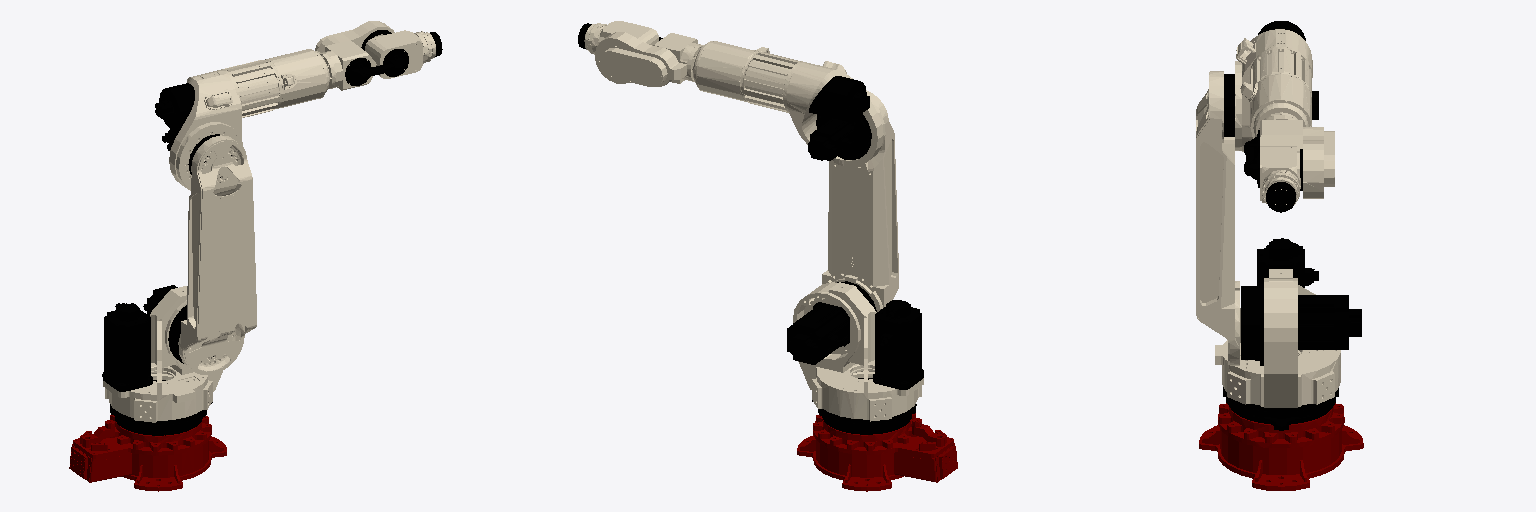
robot.urdf — SR80:
<?xml version="1.0"?>
<!-- created with Phobos 1.0.1 "Capricious Choutengan" -->
  <robot name="SR80">

    <link name="L1">
      <visual name="Link1_1">
        <origin xyz="0 0 0" rpy="0 0 0"/>
        <geometry>
          <mesh filename="package://sr80_description/meshes/dae/Link1_1.dae" scale="1.0 1.0 1.0"/>
        </geometry>
        <material name="black"/>
      </visual>
      <visual name="Link1_2">
        <origin xyz="0 0 0" rpy="0 0 0"/>
        <geometry>
          <mesh filename="package://sr80_description/meshes/dae/Link1_2.dae" scale="1.0 1.0 1.0"/>
        </geometry>
        <material name="white"/>
      </visual>
      <collision name="Link1_1">
        <origin xyz="0.04186 0.04316 -0.12385" rpy="0 0 0"/>
        <geometry>
          <box size="0.58774 0.52632 0.5948"/>
        </geometry>
      </collision>
      <collision name="Link1_2">
        <origin xyz="0.0465 -0.01253 -0.07119" rpy="0 0 0"/>
        <geometry>
          <box size="0.59701 0.47495 0.51213"/>
        </geometry>
      </collision>
    </link>

    <link name="L2">
      <visual name="Link2_1">
        <origin xyz="0 0 0" rpy="-1.5708 0 -1.5708"/>
        <geometry>
          <mesh filename="package://sr80_description/meshes/dae/Link2_1.dae" scale="1.0 1.0 1.0"/>
        </geometry>
        <material name="white"/>
      </visual>
      <visual name="Link2_2">
        <origin xyz="0 0 0" rpy="-1.5708 0 -1.5708"/>
        <geometry>
          <mesh filename="package://sr80_description/meshes/dae/Link2_2.dae" scale="1.0 1.0 1.0"/>
        </geometry>
        <material name="black"/>
      </visual>
      <collision name="Link2_1">
        <origin xyz="0.43725 0 0.23727" rpy="-1.5708 0 -1.5708"/>
        <geometry>
          <box size="0.32499 0.16505 1.1995"/>
        </geometry>
      </collision>
      <collision name="Link2_2">
        <origin xyz="0.905 0.00031 0.03705" rpy="-1.5708 0 -1.5708"/>
        <geometry>
          <box size="0.28739 0.3599 0.288"/>
        </geometry>
      </collision>
    </link>

    <link name="L3">
      <visual name="Link3_1">
        <origin xyz="0 0 0" rpy="-1.5708 0 -1.5708"/>
        <geometry>
          <mesh filename="package://sr80_description/meshes/dae/Link3_1.dae" scale="1.0 1.0 1.0"/>
        </geometry>
        <material name="white"/>
      </visual>
      <visual name="Link3_2">
        <origin xyz="0 0 0" rpy="-1.5708 0 -1.5708"/>
        <geometry>
          <mesh filename="package://sr80_description/meshes/dae/Link3_2.dae" scale="1.0 1.0 1.0"/>
        </geometry>
        <material name="black"/>
      </visual>
      <collision name="Link3_1">
        <origin xyz="0.07425 -0.24338 0.02774" rpy="-1.5708 0 -1.5708"/>
        <geometry>
          <box size="0.83872 0.29353 0.5005"/>
        </geometry>
      </collision>
      <collision name="Link3_2">
        <origin xyz="0.206 0.02281 0" rpy="-1.5708 0 -1.5708"/>
        <geometry>
          <box size="0.301 0.19 0.19"/>
        </geometry>
      </collision>
    </link>

    <link name="L4">
      <visual name="Link4_1">
        <origin xyz="0 0 0" rpy="3.14159 -1.5708 0"/>
        <geometry>
          <mesh filename="package://sr80_description/meshes/dae/Link4_1.dae" scale="1.0 1.0 1.0"/>
        </geometry>
        <material name="white"/>
      </visual>
      <visual name="Link4_2">
        <origin xyz="0 0 0" rpy="3.14159 -1.5708 0"/>
        <geometry>
          <mesh filename="package://sr80_description/meshes/dae/Link4_2.dae" scale="1.0 1.0 1.0"/>
        </geometry>
        <material name="black"/>
      </visual>
      <collision name="Link4_1">
        <origin xyz="0 -0.05552 0.688" rpy="3.14159 -1.5708 0"/>
        <geometry>
          <box size="0.88401 0.29316 0.21988"/>
        </geometry>
      </collision>
      <collision name="Link4_2">
        <origin xyz="0 0.00411 0.93202" rpy="3.14159 -1.5708 0"/>
        <geometry>
          <box size="0.36419 0.27337 0.19"/>
        </geometry>
      </collision>
    </link>

    <link name="L5">
      <visual name="Link5">
        <origin xyz="0 0 0" rpy="-1.5708 0 -1.5708"/>
        <geometry>
          <mesh filename="package://sr80_description/meshes/dae/Link5.dae" scale="1.0 1.0 1.0"/>
        </geometry>
        <material name="white"/>
      </visual>
      <collision name="Link5">
        <origin xyz="0 -0.07093 0.00343" rpy="-1.5708 0 -1.5708"/>
        <geometry>
          <box size="0.30715 0.15674 0.15001"/>
        </geometry>
      </collision>
    </link>

    <link name="base_link">
      <visual name="Base">
        <origin xyz="0 0 0" rpy="0 0 0"/>
        <geometry>
          <mesh filename="package://sr80_description/meshes/dae/Base.dae" scale="1.0 1.0 1.0"/>
        </geometry>
        <material name="red"/>
      </visual>
      <collision name="Base">
        <origin xyz="-0.04926 0 0.12718" rpy="0 0 0"/>
        <geometry>
          <box size="0.75852 0.62187 0.25435"/>
        </geometry>
      </collision>
    </link>

    <link name="flange">
      <visual name="Flange">
        <origin xyz="0 0 0" rpy="3.14159 0 0"/>
        <geometry>
          <mesh filename="package://sr80_description/meshes/dae/Flange.dae" scale="1.0 1.0 1.0"/>
        </geometry>
        <material name="black"/>
      </visual>
      <collision name="Flange">
        <origin xyz="0 0 -0.01015" rpy="3.14159 0 0"/>
        <geometry>
          <box size="0.115 0.11383 0.0307"/>
        </geometry>
      </collision>
    </link>

    <!-- ROS-Industrial 'base' frame: base_link to robot world coordinate sytem transform -->
    <link name="base0" />
    <joint name="base_link-base" type="fixed">
        <origin rpy="0 0 0" xyz="0 0 0" />
        <parent link="base_link" />
        <child link="base0" />
    </joint>
    <!-- ROS-Industrial 'tool0' frame: all-zeros tool frame -->
    <link name="tool0" />
    <joint name="flange-tool0" type="fixed">
        <origin rpy="0 0 0" xyz="0 0 0" />
        <parent link="flange" />
        <child link="tool0" />
    </joint>

    <link name="world" />
    <joint name="world-base_link-fixed" type="fixed">
        <parent link="world" />
        <child link="base_link" />
    </joint>
    <!-- TCP -->
    <joint name="fixed_joint_tcp" type="fixed">
        <origin rpy="0 0 0" xyz="0 0 0" />
        <!-- tcp offset from last link -->
        <parent link="flange" />
        <child link="tcp" />
    </joint>
    <link name="tcp" />

    <joint name="J1" type="revolute">
      <origin xyz="0 0 0.63" rpy="0 0 0"/>
      <parent link="base_link"/>
      <child link="L1"/>
      <axis xyz="0 0 1.0"/>
      <limit lower="-3.14159" upper="3.14159" effort="2.76" velocity="3.39"/>
    </joint>

    <joint name="J2" type="revolute">
      <origin xyz="0.175 0 0" rpy="1.570796327 -1.570796327 0"/>
      <parent link="L1"/>
      <child link="L2"/>
      <axis xyz="0 0 1.0"/>
      <limit lower="-2.268928028" upper="1.047197551" effort="2.76" velocity="3.39"/>
    </joint>

    <joint name="J3" type="revolute">
      <origin xyz="0.905 0 0" rpy="0 0 0"/>
      <parent link="L2"/>
      <child link="L3"/>
      <axis xyz="0 0 1.0"/>
      <limit lower="-1.396263402" upper="2.879793266" effort="2.76" velocity="3.39"/>
    </joint>

    <joint name="J4" type="revolute">
      <origin xyz="0.206 0 0" rpy="1.570796327 0 0"/>
      <parent link="L3"/>
      <child link="L4"/>
      <axis xyz="0 0 1.0"/>
      <limit lower="-3.14159" upper="3.14159" effort="2.76" velocity="3.39"/>
    </joint>

    <joint name="J5" type="revolute">
      <origin xyz="0 0 1.02" rpy="-1.570796327 0 0"/>
      <parent link="L4"/>
      <child link="L5"/>
      <axis xyz="0 0 1.0"/>
      <limit lower="-2.181661565" upper="2.181661565" effort="2.76" velocity="3.39"/>
    </joint>

    <joint name="J6" type="revolute">
      <origin xyz="0 -0.25 0" rpy="1.570796327 0 0"/>
      <parent link="L5"/>
      <child link="flange"/>
      <axis xyz="0 0 1.0"/>
      <limit lower="-6.108652382" upper="6.108652382" effort="2.76" velocity="3.39"/>
    </joint>

    <material name="black">
      <color rgba="0.007 0.007 0.007 1.0"/>
    </material>

    <material name="red">
      <color rgba="0.49693 0.01298 0.00518 1.0"/>
    </material>

    <material name="white">
      <color rgba="0.87962 0.8388 0.75294 1.0"/>
    </material>

  </robot>

--- Render facts (derived) ---
Views: 3 orthographic renders of the robot side by side, from view 1: azimuth 30°, elevation 25°; view 2: azimuth 150°, elevation 25°; view 3: azimuth 270°, elevation 25°.
Robot: SR80 — 11 links, 10 joints (6 revolute, 4 fixed); root link world; default pose: every joint at zero.
Visible links, largest first — view 1: L2, L1, L3, base_link, L4, L5; view 2: L1, L2, L3, base_link, L4, L5; view 3: L1, L2, base_link, L3, L4, L5, flange.
Boxes of the visible links, box(x1,y1,x2,y2) form: L2: box(162, 128, 256, 374); L1: box(102, 285, 222, 435); L3: box(155, 49, 329, 190); base_link: box(69, 415, 226, 491); L4: box(280, 21, 408, 90); L5: box(365, 30, 435, 78); L1: box(787, 281, 923, 434); L2: box(808, 90, 898, 311); L3: box(693, 41, 885, 166); base_link: box(797, 413, 957, 491); L4: box(595, 32, 703, 86); L5: box(584, 21, 658, 54); L1: box(1215, 238, 1361, 430); L2: box(1196, 71, 1318, 365); base_link: box(1199, 403, 1363, 490); L3: box(1235, 21, 1312, 151); L4: box(1244, 112, 1334, 198); L5: box(1260, 146, 1300, 204); flange: box(1266, 182, 1295, 212).
Size in the robot's own frame: 1.88 by 0.6307 by 1.86 metres.
Meshes: 11 distinct files referenced, 11 mesh visuals loaded (11 Collada DAE).